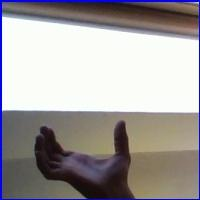space: (26, 120, 146, 196)
